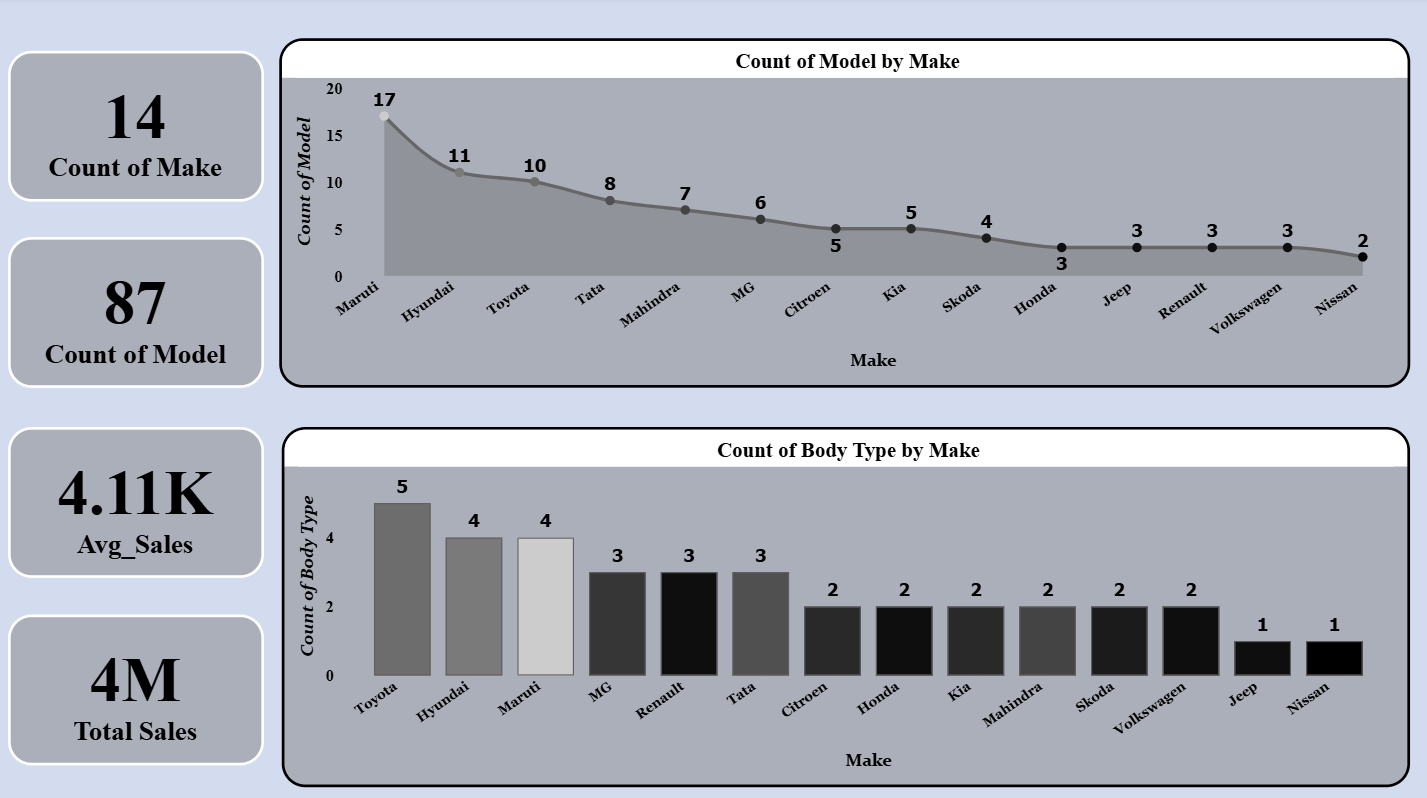

Layout of this report page (visuals, bound fields, positions):
{"tool":"powerbi","page":{"name":"Page 1","canvas":[1280,720],"ordinal":1},"visuals":[{"type":"areaChart","fields":{"Category":["Table.Make"],"Y":["Count(Table.Model)"]},"box":[254.6,36.2,1007.4,311.3],"z":0},{"type":"columnChart","fields":{"Category":["Table.Make"],"Y":["Count(Table.Body Type)"]},"box":[256.6,382.8,1004.5,321.1],"z":1000},{"type":"card","fields":{"Values":["Count(Table.Model)"]},"box":[13.7,214.1,227.8,134.5],"z":2000},{"type":"card","fields":{"Values":["Count(Table.Make)"]},"box":[13.7,48,227.8,134.5],"z":3000},{"type":"card","fields":{"Values":["Table.Total Sales"]},"box":[13.7,550.3,227.8,134.5],"z":4000},{"type":"card","fields":{"Values":["Table.Avg_Sales"]},"box":[13.7,382.8,227.8,134.5],"z":5000}]}

Visuals, with their boxes in screenshot pixels (x1, y1, x2, y2), scaled from the page's 1280x720 canvas onto the 1427x798 screenshot:
areaChart - Table.Make x Count(Table.Model): 284 40 1407 385
columnChart - Table.Make x Count(Table.Body Type): 286 424 1406 780
card - Count(Table.Model): 15 237 269 386
card - Count(Table.Make): 15 53 269 202
card - Table.Total Sales: 15 610 269 759
card - Table.Avg_Sales: 15 424 269 573
